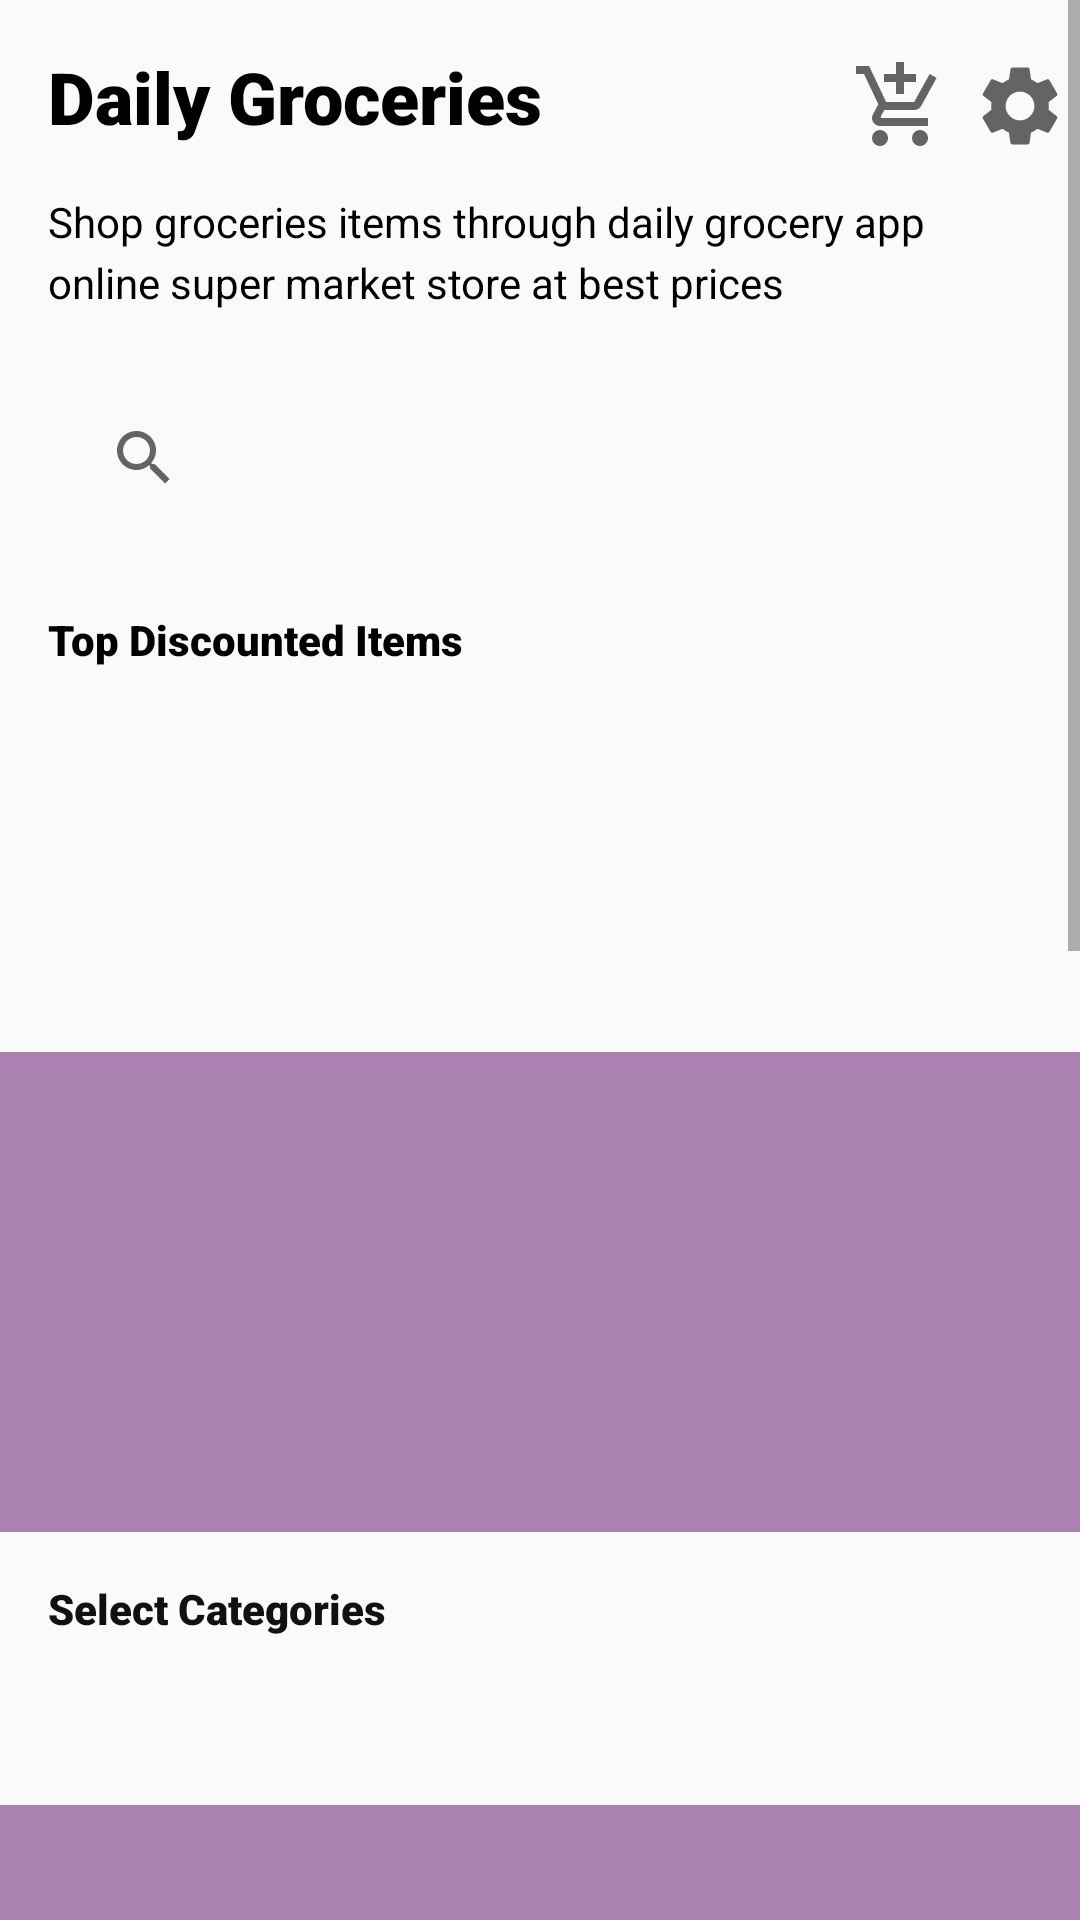

Locate icon controls on the screen. Image size 1080 x 1920, boxes as (x1, y1, x2, y2).
account settings: (982, 67, 1058, 145)
cart image: (856, 62, 937, 146)
